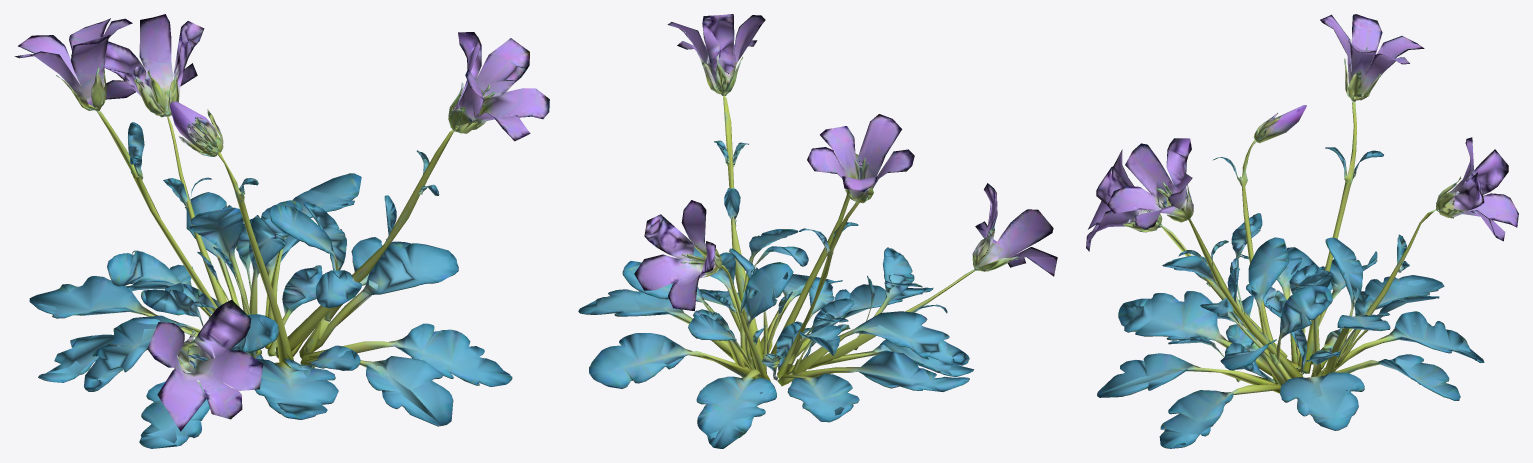
Rendered from XingYingCao.glb.
3 views of the same model, side by side, from view 1: azimuth 30°, elevation 25°; view 2: azimuth 150°, elevation 25°; view 3: azimuth 270°, elevation 25° (orthographic). The views are drawn at different scales.
Visible parts, largest first — view 1: tripo_node_206b1863-5c28-49a5-9abb-503f2e101da0; view 2: tripo_node_206b1863-5c28-49a5-9abb-503f2e101da0; view 3: tripo_node_206b1863-5c28-49a5-9abb-503f2e101da0.
Boxes of the visible parts, bbox=[...] form: tripo_node_206b1863-5c28-49a5-9abb-503f2e101da0: bbox=[14, 14, 549, 448]; tripo_node_206b1863-5c28-49a5-9abb-503f2e101da0: bbox=[578, 14, 1057, 448]; tripo_node_206b1863-5c28-49a5-9abb-503f2e101da0: bbox=[1086, 14, 1518, 448].
Bounding box in the file's own units: 0.9864 × 0.7676 × 0.998.
Materials: 1 (1 with a texture image).
